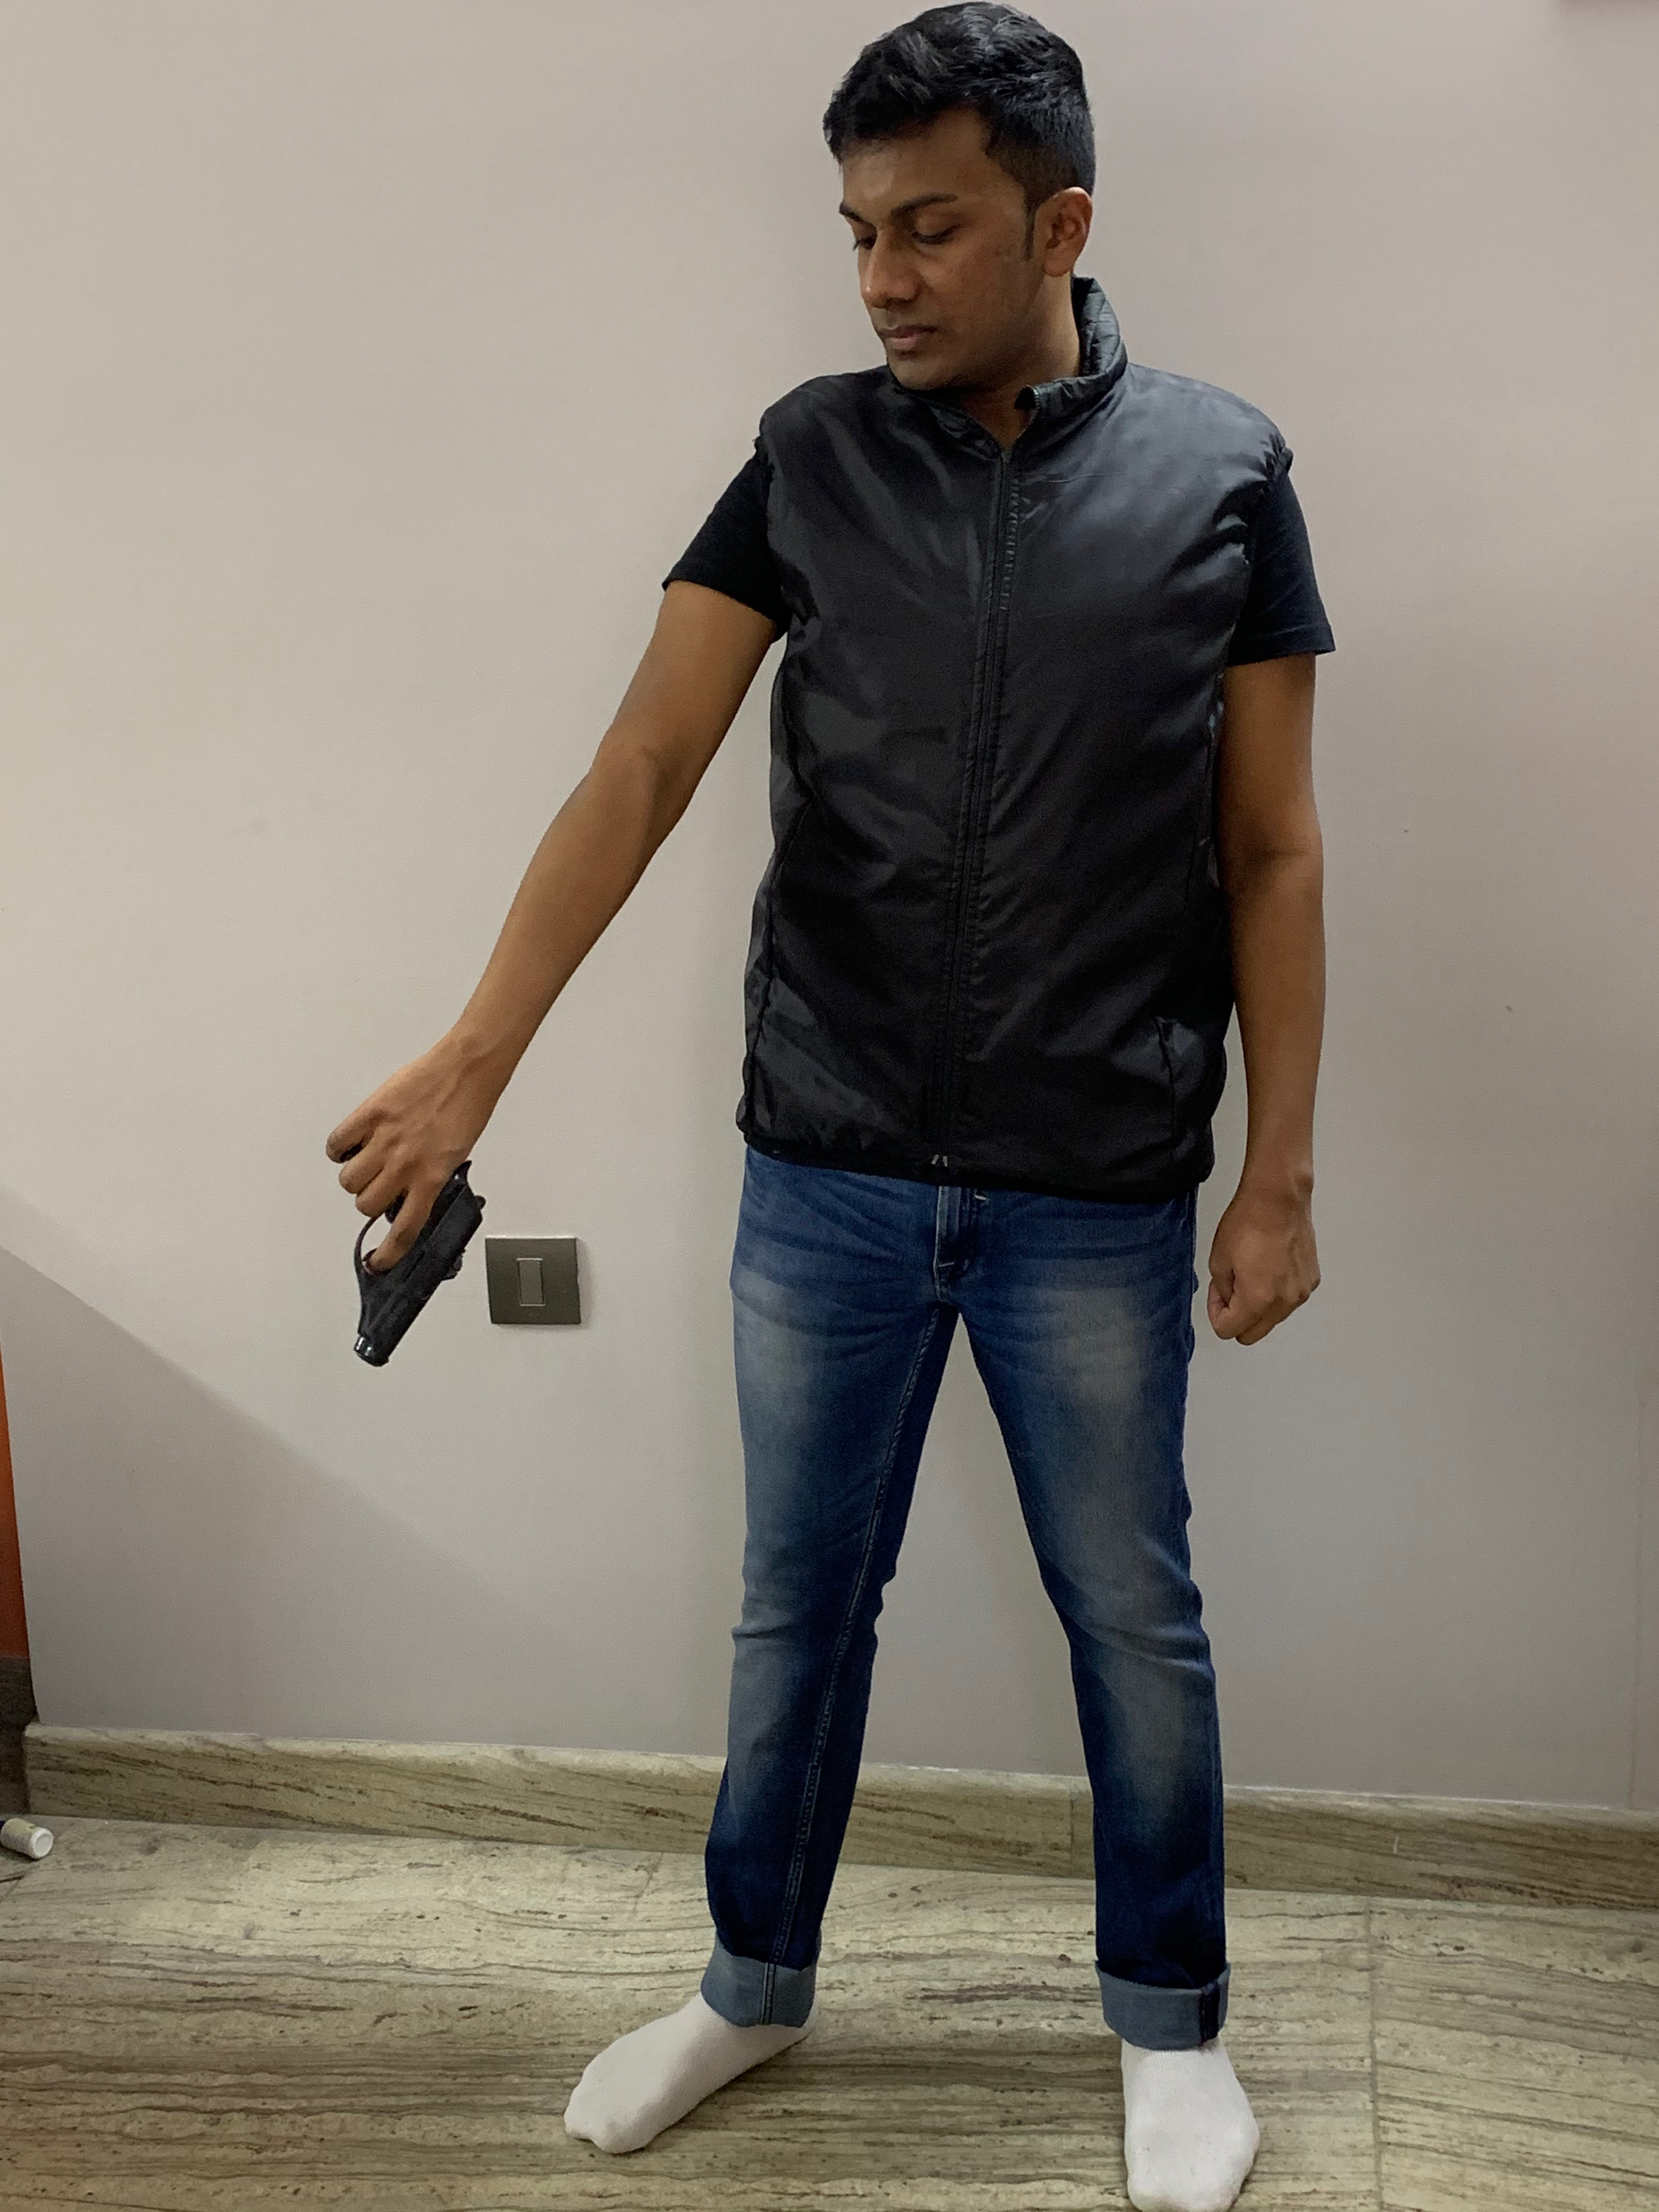gun: (349, 1155, 488, 1369)
